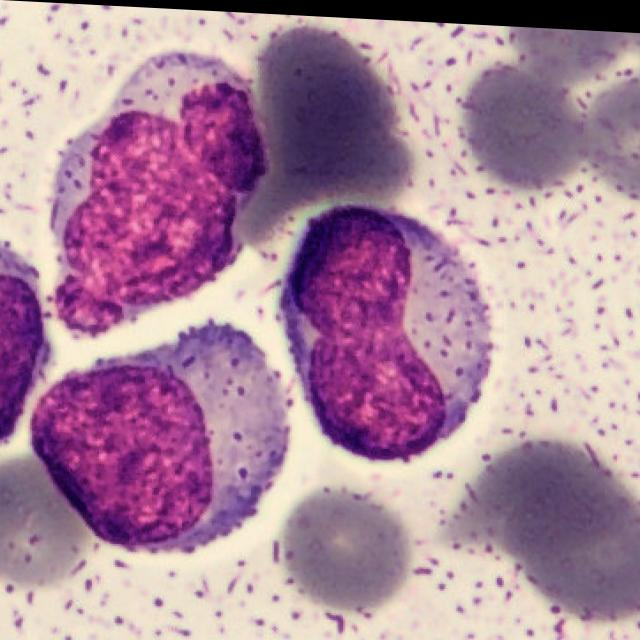Mieloblasto: (51, 49, 270, 336), (30, 321, 288, 552), (278, 202, 493, 459)
